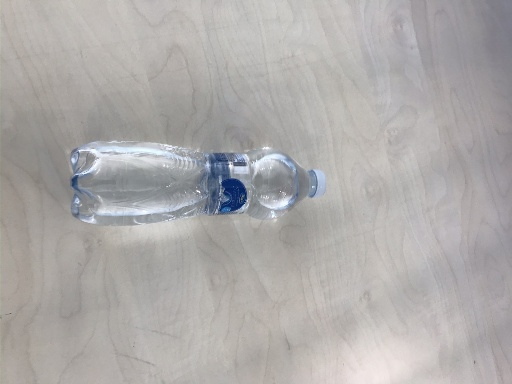Acqua: (66, 138, 326, 227)
